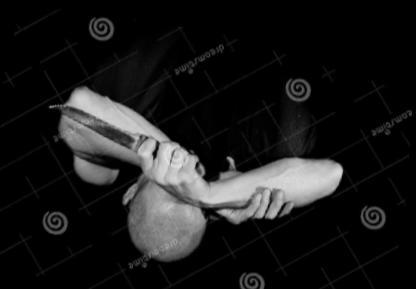knife: (39, 94, 202, 180)
